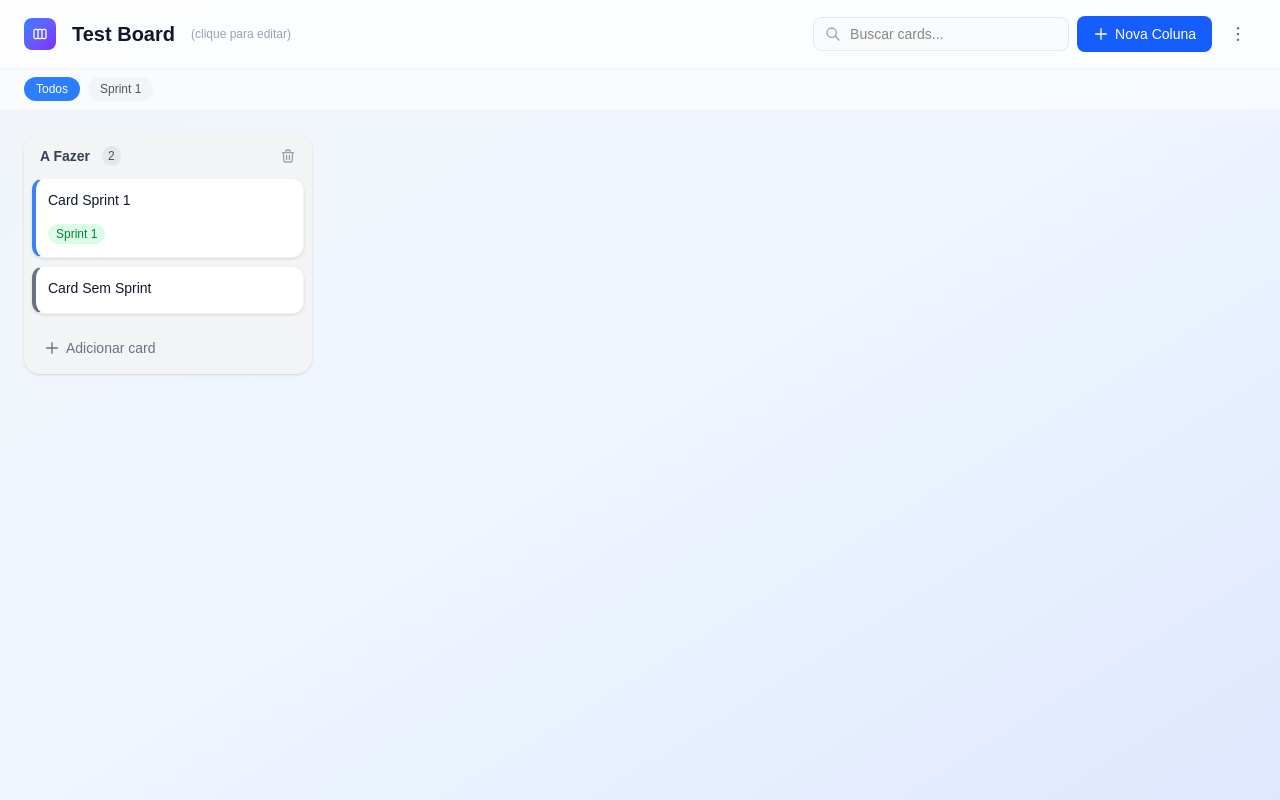
Test case: KanbanBoard extended › shows all cards again when "Todos" clicked after filtering
Click the button "Sprint 1".
click(121, 89)  # box [88,77,153,101]
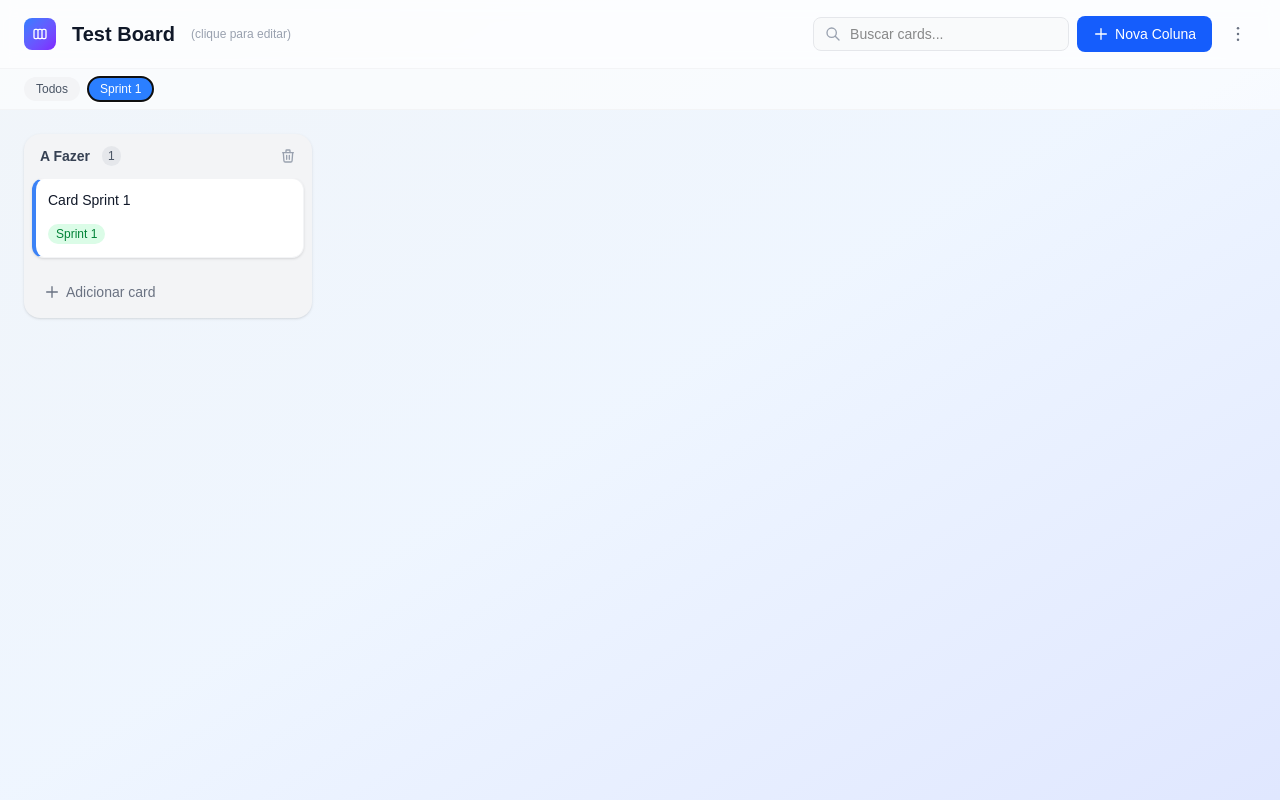
Click the button "Todos".
click(52, 89)  # box [24,77,80,101]
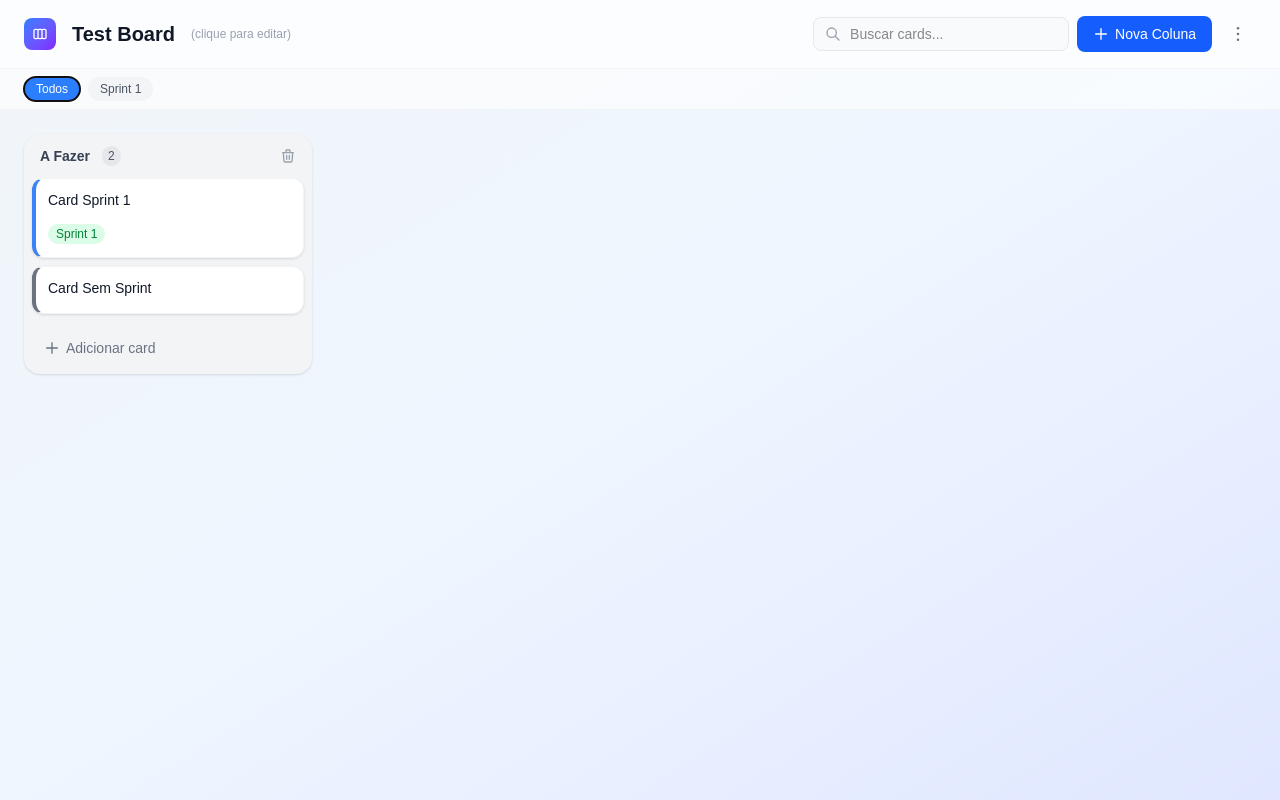
Check: the text "Card Sprint 1" is shown, box [48,192,130,208]
Check: the text "Card Sem Sprint" is shown, box [48,280,152,296]
